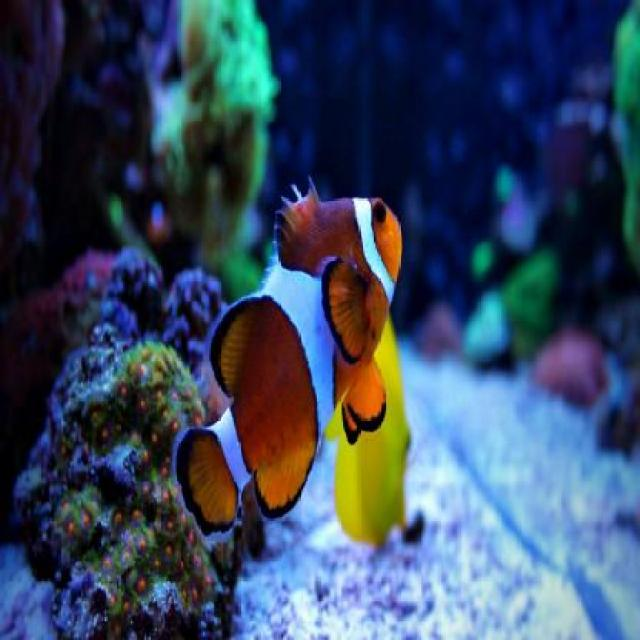ClownFish: (170, 181, 402, 517)
